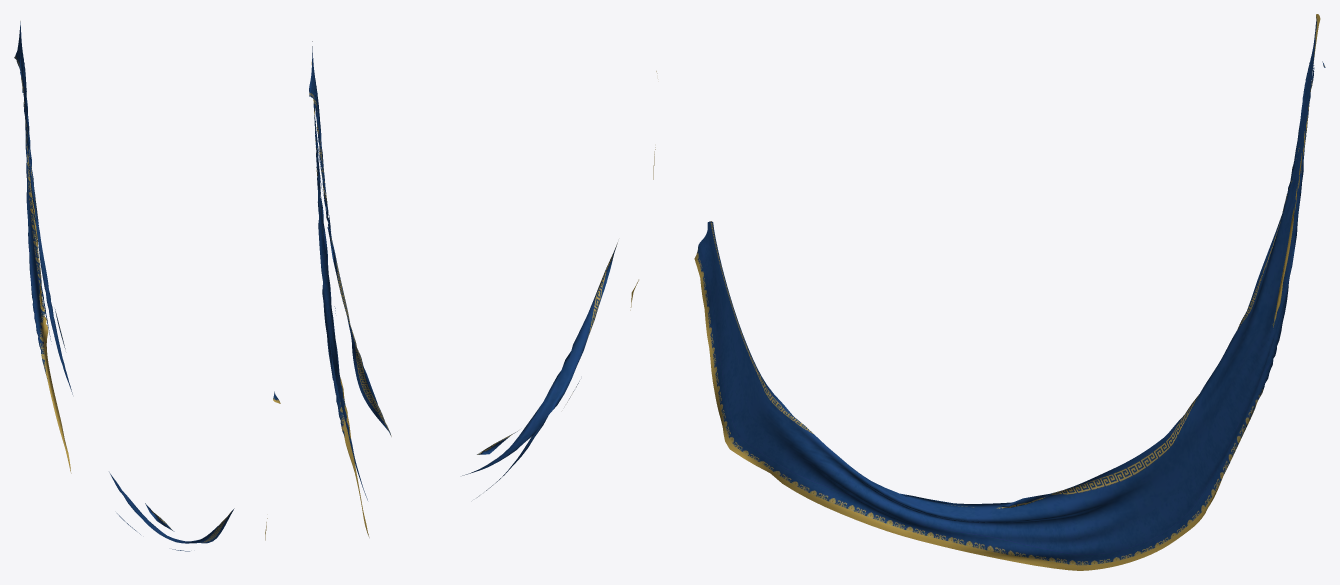
The model's file is SM_fabric_decoration.glb.
3 views of the same model, side by side, from view 1: azimuth 30°, elevation 25°; view 2: azimuth 150°, elevation 25°; view 3: azimuth 270°, elevation 25° (orthographic). The views are drawn at different scales.
Visible parts, largest first — view 1: SM_fabric_decoration; view 2: SM_fabric_decoration; view 3: SM_fabric_decoration.
Part boxes in pixels (box(x1,y1,x2,y2)): SM_fabric_decoration: box(14, 21, 280, 551); SM_fabric_decoration: box(309, 41, 657, 537); SM_fabric_decoration: box(694, 14, 1325, 570).
Bounding box in the file's own units: 0.3367 × 11.03 × 11.33.
Materials: 1 (1 with a texture image).
